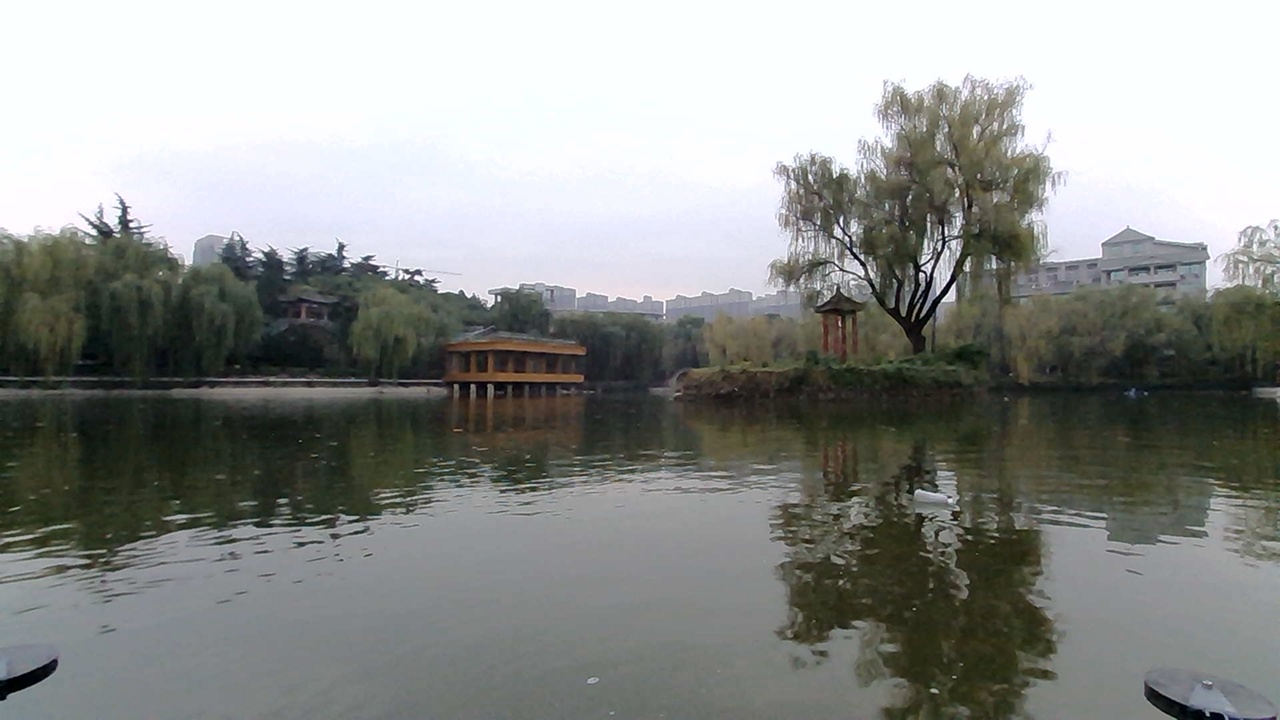bottle: (910, 480, 974, 513)
